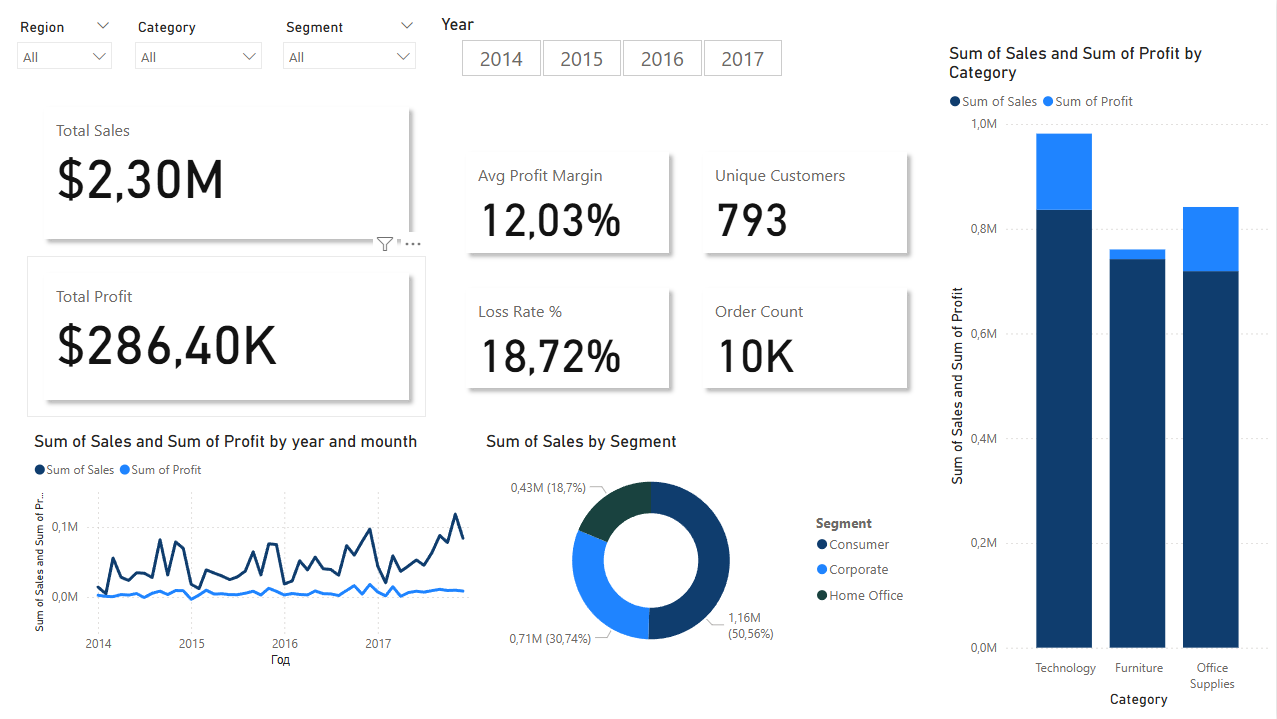

What the dashboard file says about the page in this screenshot:
{"tool":"powerbi","page":{"name":"Executive Overview","canvas":[1280,720],"ordinal":0},"visuals":[{"type":"cardVisual","fields":{"Data":["fact_orders.Total Sales"]},"box":[31.4,90,398.6,165.7],"z":0},{"type":"cardVisual","fields":{"Data":["fact_orders.Total Profit"]},"box":[31.4,255.7,398.6,161.4],"z":1000},{"type":"cardVisual","fields":{"Data":["fact_orders.Avg Profit Margin"]},"box":[452.5,135,237.5,135],"z":2000},{"type":"cardVisual","fields":{"Data":["fact_orders.Loss Rate %"]},"box":[452.5,271.2,237.5,133.8],"z":3000},{"type":"cardVisual","fields":{"Data":["fact_orders.Unique Customers"]},"box":[690,135.5,238.2,134.5],"z":4000},{"type":"cardVisual","fields":{"Data":["fact_orders.Order Count"]},"box":[690,270.9,238.2,134.5],"z":5000},{"type":"lineChart","title":"Sum of Sales and Sum of Profit by year and mounth","fields":{"Y":["Sum(fact_orders.Sales)","Sum(fact_orders.Profit)"],"Category":["fact_orders.Order Date.Изменение.Иерархия дат.Год","fact_orders.Order Date.Изменение.Иерархия дат.Месяц"]},"box":[33,431,452,240],"z":6000},{"type":"columnChart","fields":{"Category":["fact_orders.Category"],"Y":["Sum(fact_orders.Sales)","Sum(fact_orders.Profit)"]},"box":[948,43,332,669],"z":7000},{"type":"donutChart","fields":{"Y":["Sum(fact_orders.Sales)"],"Category":["fact_orders.Segment"]},"box":[485,431,437,240],"z":8000},{"type":"slicer","fields":{"Values":["fact_orders.Region"]},"box":[11.2,13.8,115,62.5],"z":9000},{"type":"slicer","fields":{"Values":["fact_orders.Category"]},"box":[128.8,13.8,147.5,62.5],"z":10000},{"type":"slicer","fields":{"Values":["fact_orders.Segment"]},"box":[277.1,14.3,152.9,62.9],"z":11000},{"type":"slicer","title":"Year","fields":{"Values":["fact_orders.Order Date.Изменение.Иерархия дат.Год"]},"box":[440,14.3,370,61.4],"z":12001}]}

Visuals, with their boxes in screenshot pixels (x1, y1, x2, y2), scaled from the page's 1280x720 canvas onto the 1277x719 screenshot:
cardVisual - fact_orders.Total Sales: x1=31 y1=90 x2=429 y2=255
cardVisual - fact_orders.Total Profit: x1=31 y1=255 x2=429 y2=417
cardVisual - fact_orders.Avg Profit Margin: x1=451 y1=135 x2=688 y2=270
cardVisual - fact_orders.Loss Rate %: x1=451 y1=271 x2=688 y2=404
cardVisual - fact_orders.Unique Customers: x1=688 y1=135 x2=926 y2=270
cardVisual - fact_orders.Order Count: x1=688 y1=271 x2=926 y2=405
"Sum of Sales and Sum of Profit by year and mounth" lineChart: x1=33 y1=430 x2=484 y2=670
columnChart - fact_orders.Category x Sum(fact_orders.Sales): x1=946 y1=43 x2=1276 y2=711
donutChart - Sum(fact_orders.Sales) x fact_orders.Segment: x1=484 y1=430 x2=920 y2=670
slicer - fact_orders.Region: x1=11 y1=14 x2=126 y2=76
slicer - fact_orders.Category: x1=128 y1=14 x2=276 y2=76
slicer - fact_orders.Segment: x1=276 y1=14 x2=429 y2=77
"Year" slicer: x1=439 y1=14 x2=808 y2=76
